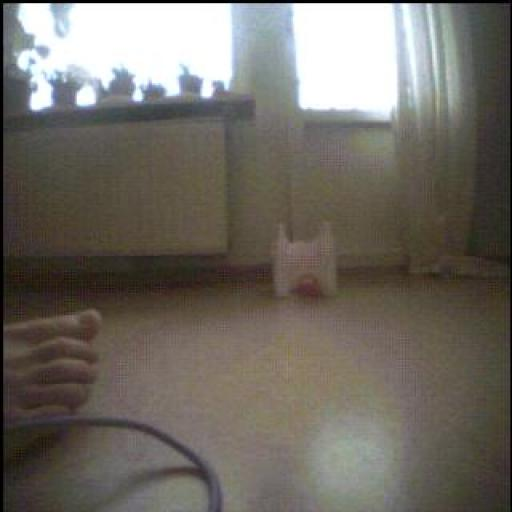Basket: (293, 271, 320, 296)
